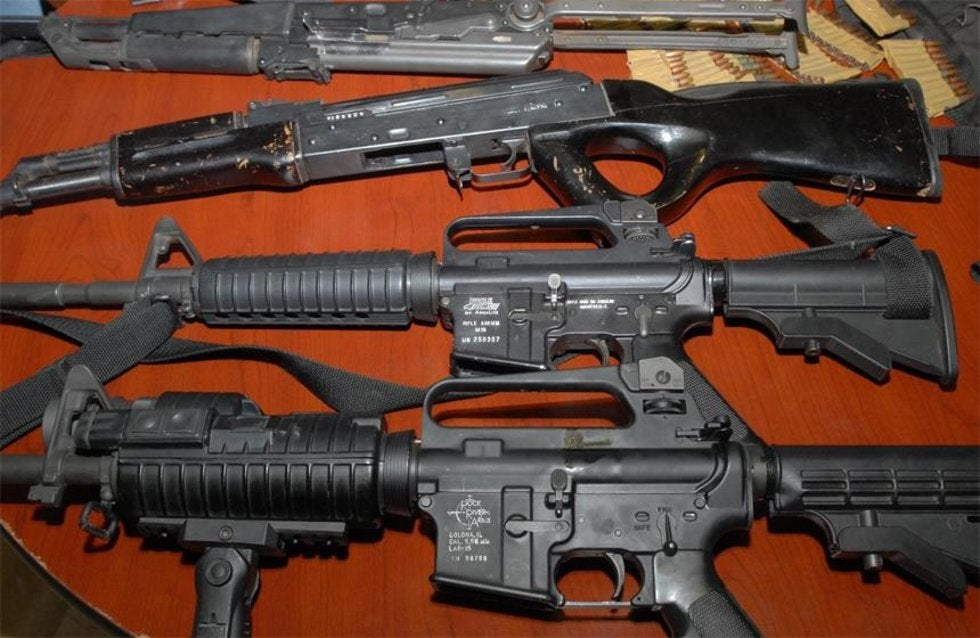Arma Real: (3, 355, 979, 637), (5, 197, 974, 391), (5, 69, 956, 206)
